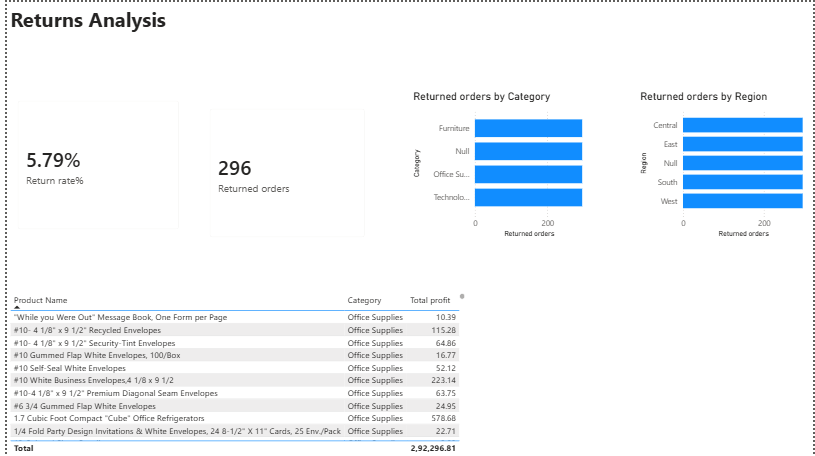

What the dashboard file says about the page in this screenshot:
{"tool":"powerbi","page":{"name":"Returns Analysis","canvas":[1280,720],"ordinal":3},"visuals":[{"type":"clusteredBarChart","fields":{"Category":["Orders.Category"],"Y":["Measure.Returned orders"]},"box":[640,139.4,290.6,238.5],"z":0},{"type":"clusteredBarChart","fields":{"Category":["Orders.Region"],"Y":["Measure.Returned orders"]},"box":[999.5,139.4,280.5,238.5],"z":1000},{"type":"tableEx","fields":{"Values":["Orders.Product Name","Orders.Category","Measure.Total profit"]},"box":[0,456.9,732.4,263.7],"z":2000},{"type":"cardVisual","fields":{"Data":["Measure.Return rate%"]},"box":[0,139.4,290.6,238.5],"z":3000},{"type":"cardVisual","fields":{"Data":["Measure.Returned orders"]},"box":[304,152.9,280.5,238.5],"z":4000},{"type":"textbox","box":[0,0,839.9,77.3],"z":4001}]}

Visuals, with their boxes in screenshot pixels (x1, y1, x2, y2), scaled from the page's 1280x720 canvas onto the 815x456 screenshot:
clusteredBarChart - Orders.Category x Measure.Returned orders: detection(408, 88, 593, 239)
clusteredBarChart - Orders.Region x Measure.Returned orders: detection(636, 88, 814, 239)
tableEx - Orders.Product Name x Orders.Category: detection(0, 289, 466, 455)
cardVisual - Measure.Return rate%: detection(0, 88, 185, 239)
cardVisual - Measure.Returned orders: detection(194, 97, 372, 248)
textbox: detection(0, 0, 535, 49)
